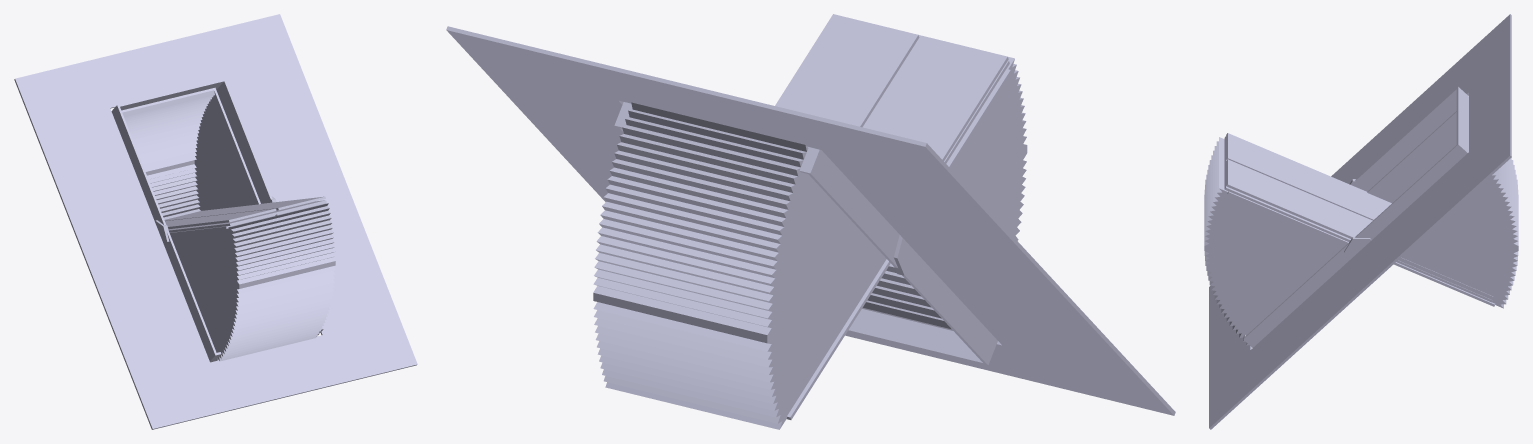
File: RoofDock_-25deg.glb
The picture shows the model from 3 angles, left to right: view 1: azimuth 30°, elevation 25°; view 2: azimuth 150°, elevation 25°; view 3: azimuth 270°, elevation 25°; orthographic projection. The views are drawn at different scales.
Visible parts, largest first — view 1: copy_Body021, copy_Body023, copy_Body022, copy_Body, copy_LinkGroup004; view 2: copy_Body022, copy_Body021, copy_LinkGroup004, copy_Body, copy_Body023, copy_LinkGroup003, copy_Body002; view 3: copy_Body021, copy_Body023, copy_Body022, copy_LinkGroup004, copy_Body, copy_LinkGroup003, copy_Body001.
Part boxes in pixels (x1=…): copy_Body021: x1=14, y1=14, x2=417, y2=429; copy_Body023: x1=170, y1=203, x2=335, y2=361; copy_Body022: x1=121, y1=87, x2=260, y2=219; copy_Body: x1=111, y1=78, x2=323, y2=362; copy_LinkGroup004: x1=164, y1=196, x2=326, y2=232; copy_Body022: x1=593, y1=102, x2=886, y2=429; copy_Body021: x1=446, y1=26, x2=1175, y2=415; copy_LinkGroup004: x1=775, y1=14, x2=1009, y2=163; copy_Body: x1=614, y1=102, x2=997, y2=365; copy_Body023: x1=862, y1=35, x2=1027, y2=330; copy_LinkGroup003: x1=787, y1=69, x2=1011, y2=419; copy_Body002: x1=894, y1=235, x2=920, y2=275; copy_Body021: x1=1209, y1=14, x2=1511, y2=429; copy_Body023: x1=1204, y1=137, x2=1346, y2=345; copy_Body022: x1=1367, y1=111, x2=1518, y2=308; copy_LinkGroup004: x1=1224, y1=133, x2=1493, y2=301; copy_Body: x1=1243, y1=86, x2=1468, y2=347; copy_LinkGroup003: x1=1227, y1=191, x2=1495, y2=306; copy_Body001: x1=1344, y1=237, x2=1371, y2=260.
Bounding box in the file's own units: 1.68 × 1.52 × 1.57.
